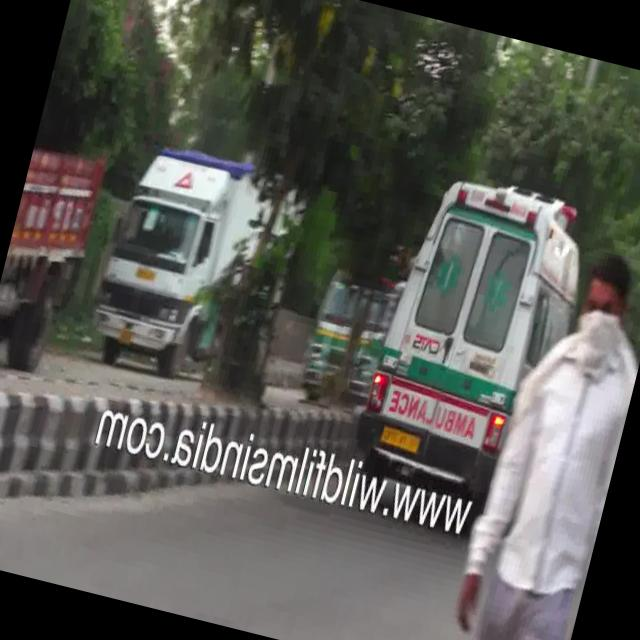ambulance: (347, 125, 583, 494)
